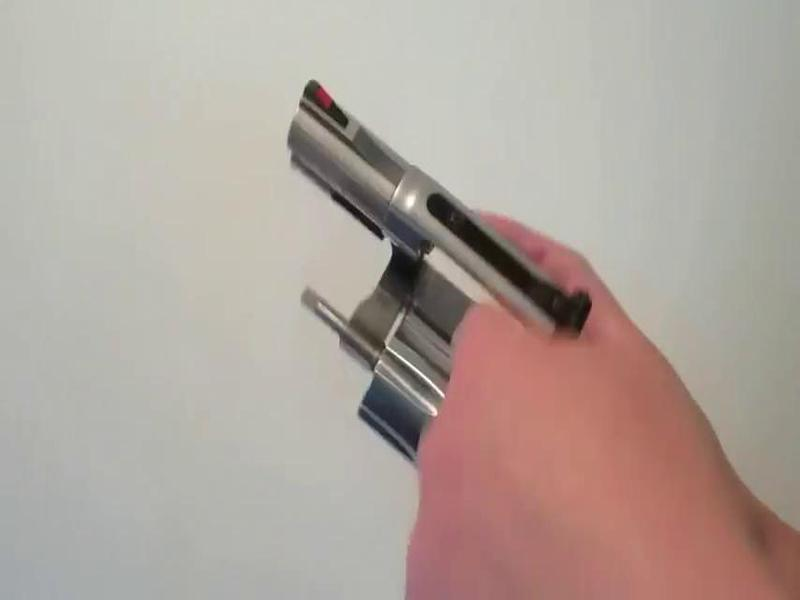Revolver: (264, 61, 639, 504)
